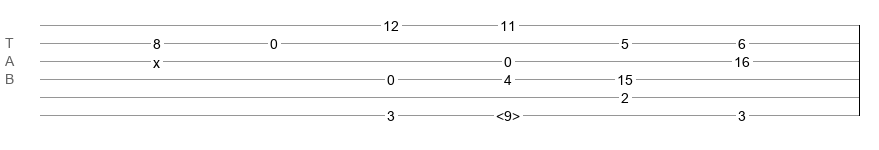0: (270, 36, 278, 46), (387, 72, 395, 82), (504, 54, 512, 64)
11: (500, 18, 516, 28)
12: (383, 18, 399, 28)
15: (617, 72, 633, 82)
16: (734, 54, 750, 64)
2: (621, 90, 629, 100)
3: (387, 108, 395, 118), (738, 108, 746, 118)
4: (504, 72, 512, 82)
5: (621, 36, 629, 46)
6: (738, 36, 746, 46)
8: (153, 36, 161, 46)
harmonic: (496, 108, 520, 118)
x: (153, 55, 160, 63)
